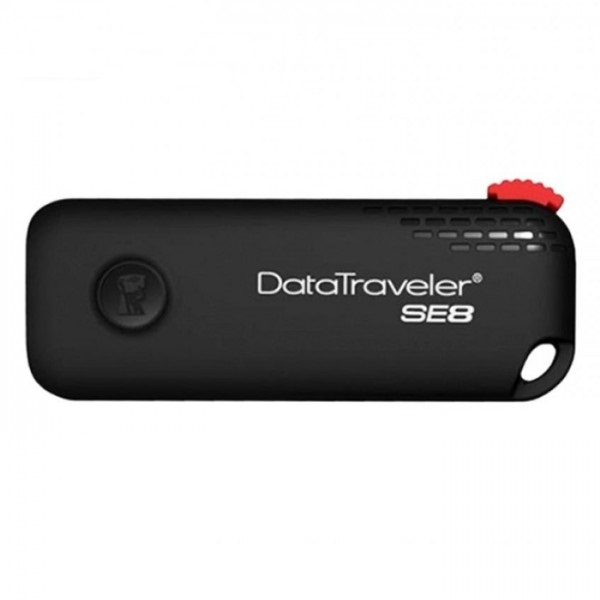Kingston: (109, 264, 163, 325)
